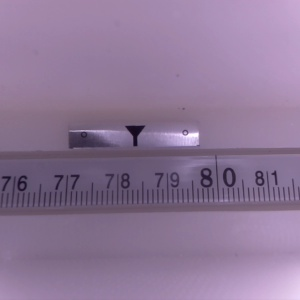0: (221, 168, 236, 187)
1: (271, 170, 278, 186)
6: (16, 175, 27, 191)
7: (53, 175, 64, 191), (70, 174, 80, 190), (153, 172, 163, 188), (104, 173, 114, 189), (0, 175, 10, 191)
8: (200, 168, 213, 188), (120, 173, 130, 189), (254, 170, 264, 186)
9: (169, 172, 179, 188)
finger: (123, 125, 145, 147)
